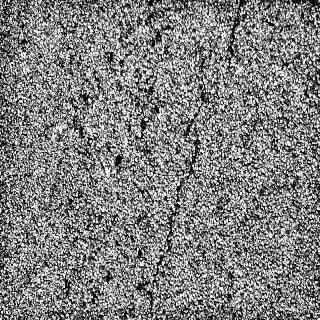crack: (145, 175, 181, 320), (175, 62, 211, 198), (211, 0, 243, 114)
